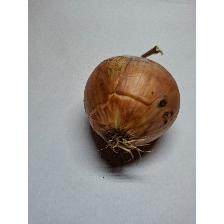Zwiebel: (78, 42, 182, 154)
